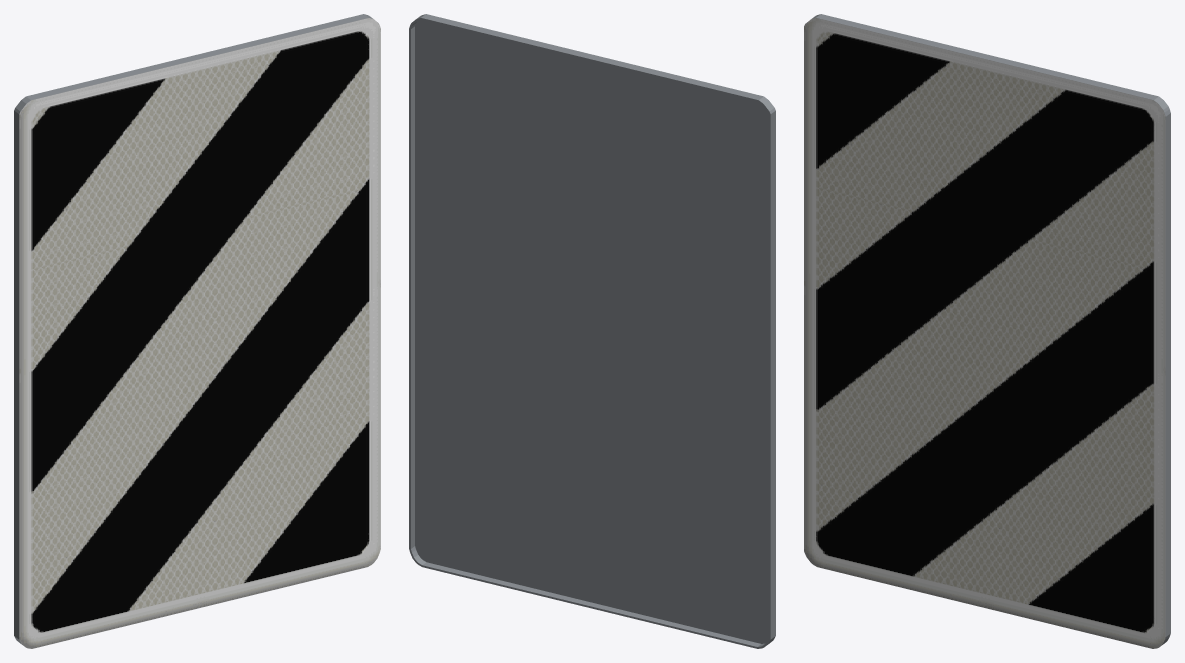
3 renders of one model, left to right at view 1: azimuth 30°, elevation 25°; view 2: azimuth 150°, elevation 25°; view 3: azimuth 330°, elevation 25°, orthographic.
Visible parts, largest first — view 1: cat_835da0dee50c5d70; view 2: cat_835da0dee50c5d70; view 3: cat_835da0dee50c5d70.
Part boxes in pixels (<box>): cat_835da0dee50c5d70: <box>14,14,380,648</box>; cat_835da0dee50c5d70: <box>409,14,775,648</box>; cat_835da0dee50c5d70: <box>804,14,1170,648</box>.
Bounding box in the file's own units: 0.6 × 0.015 × 0.8704.
Materials: 2 (1 with a texture image).
